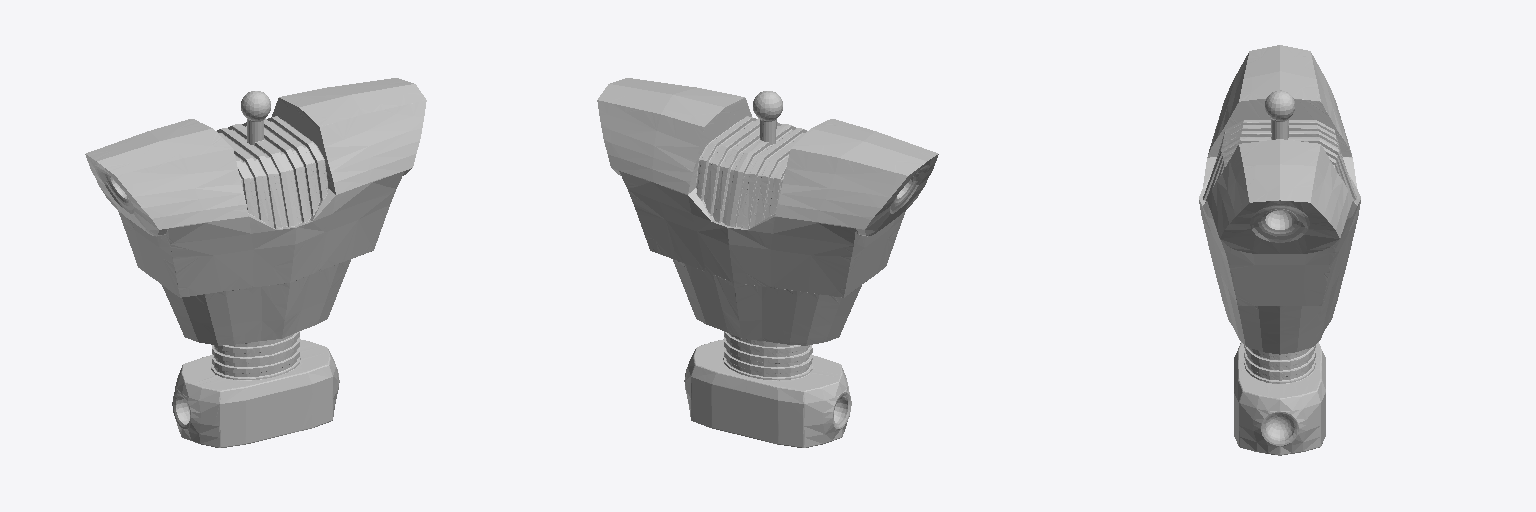
Rendered from IronGiantBody.obj.
3 renders of one model, left to right at view 1: azimuth 30°, elevation 25°; view 2: azimuth 150°, elevation 25°; view 3: azimuth 270°, elevation 25°, orthographic.
Visible parts, largest first — view 1: IronGiantBody:Mesh; view 2: IronGiantBody:Mesh; view 3: IronGiantBody:Mesh.
Part boxes in pixels (x1,y1,x2,y2): IronGiantBody:Mesh: (85, 78, 426, 447); IronGiantBody:Mesh: (597, 78, 938, 447); IronGiantBody:Mesh: (1199, 45, 1360, 455).
Bounding box in the file's own units: 23.85 × 23.48 × 10.56.